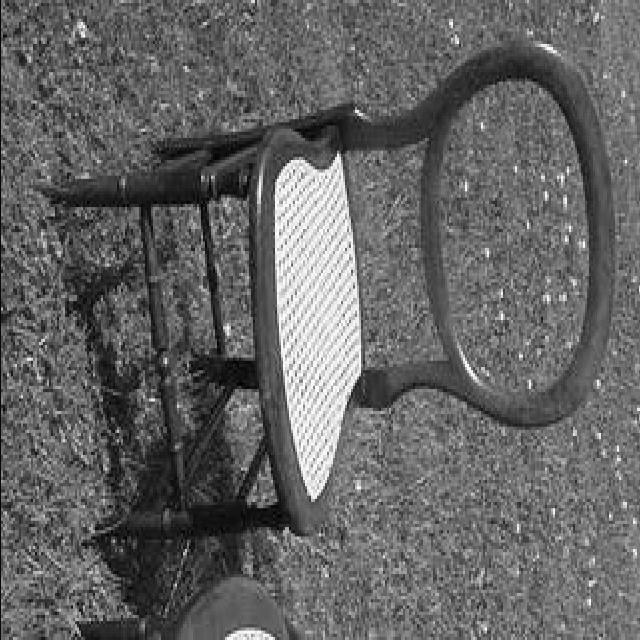chair: (42, 34, 618, 550)
